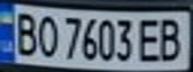0: (97, 16, 118, 63)
3: (115, 16, 139, 63)
6: (78, 15, 100, 62)
7: (60, 12, 81, 61)
B: (154, 15, 187, 62), (9, 8, 39, 57)
E: (136, 15, 166, 63)
O: (33, 11, 60, 58)
